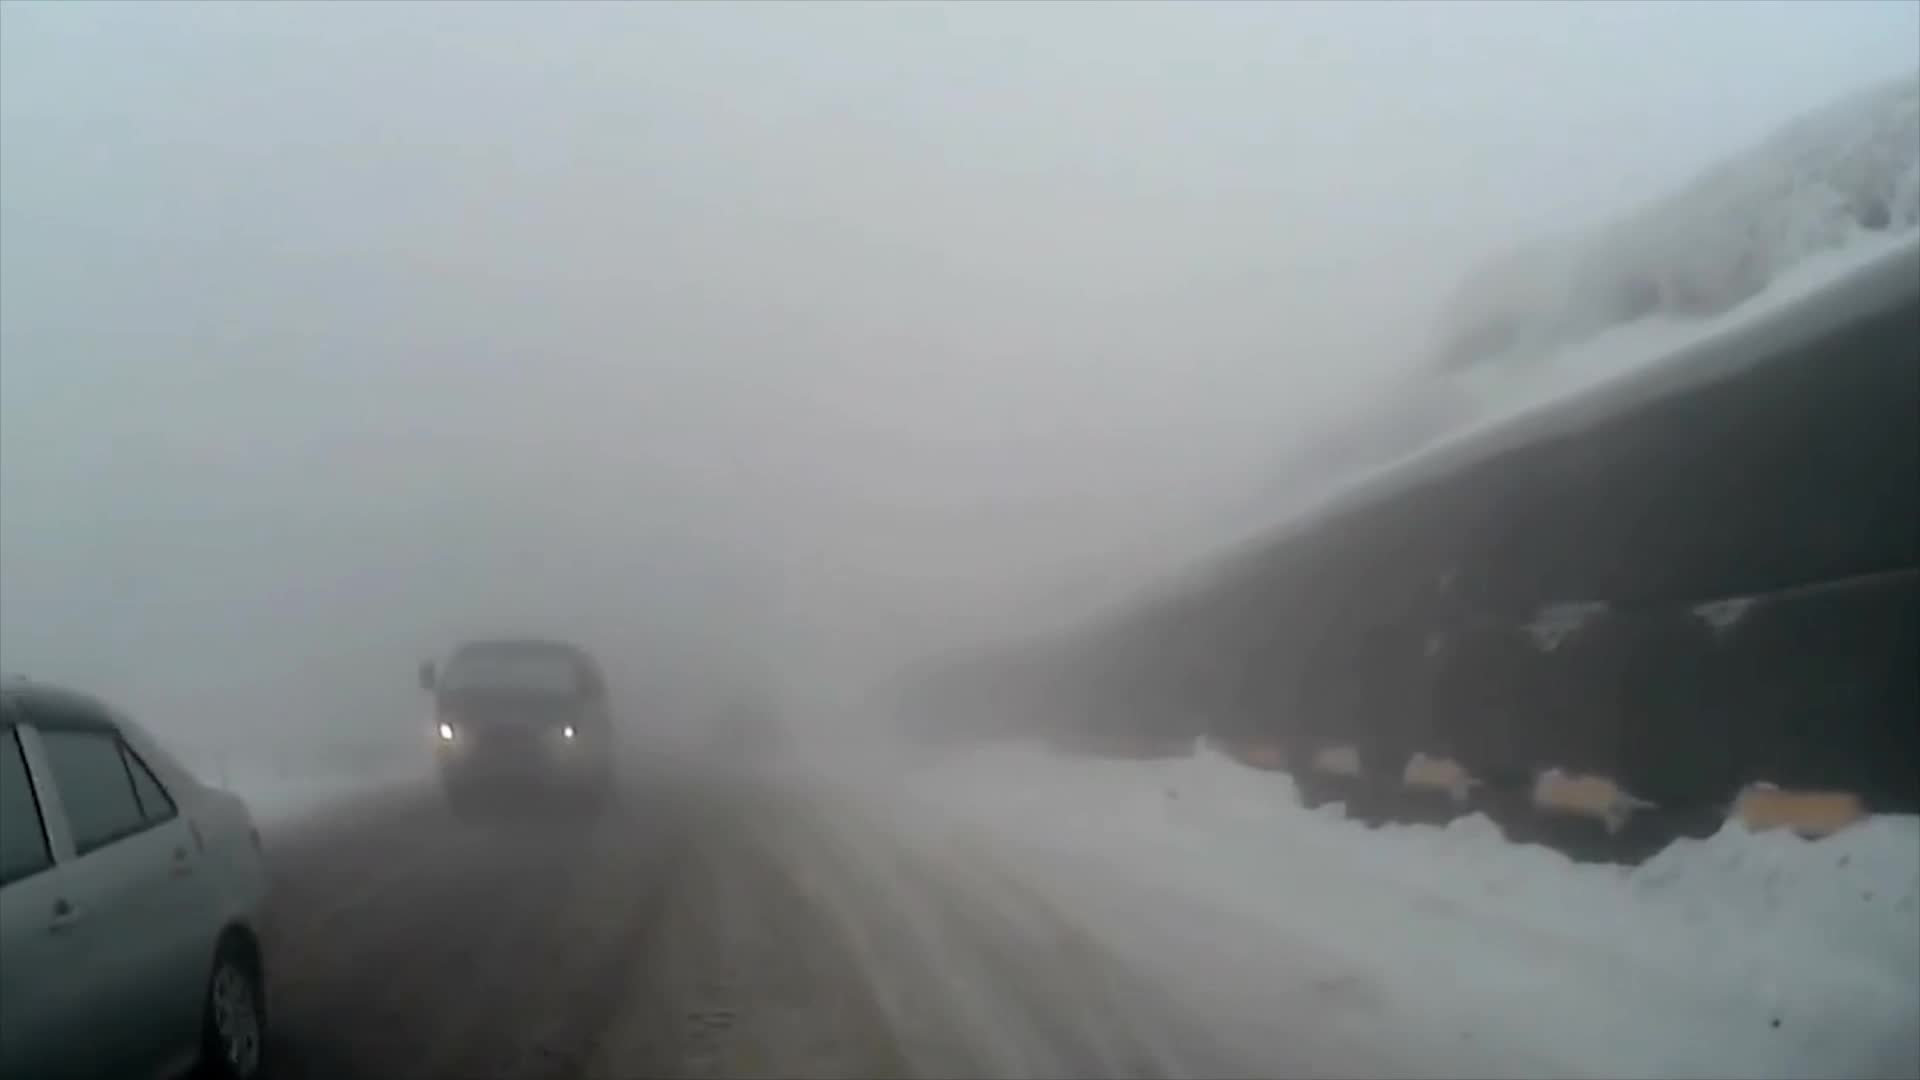vehicle: (0, 675, 270, 1080), (411, 636, 616, 818)
